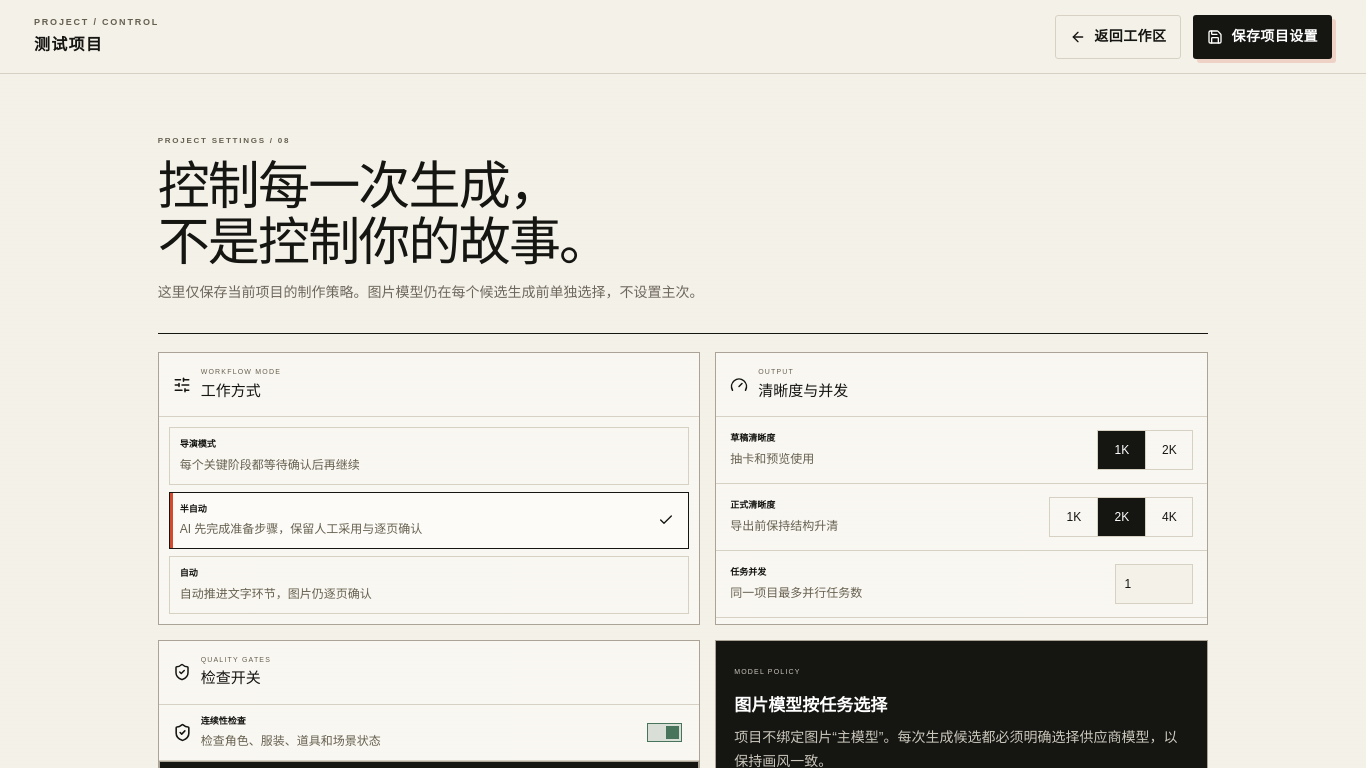
Scenario: ProjectSettingsPage 保存覆盖在途编辑（#650） › 保存在途再改清晰度时，响应落地保留本地修改而不是提交快照回弹
This screenshot has width=1366, height=768.
Expected: the element named "工作方式" is shown, top-left (159, 417), bottom-right (699, 624)
// 修改草稿清晰度并保存：请求在途，控件保持可编辑（这是修复的前提）。
Click the button "2K" in the row of "抽卡和预览使用": [1169, 450] box top-left (1145, 430), bottom-right (1193, 470)
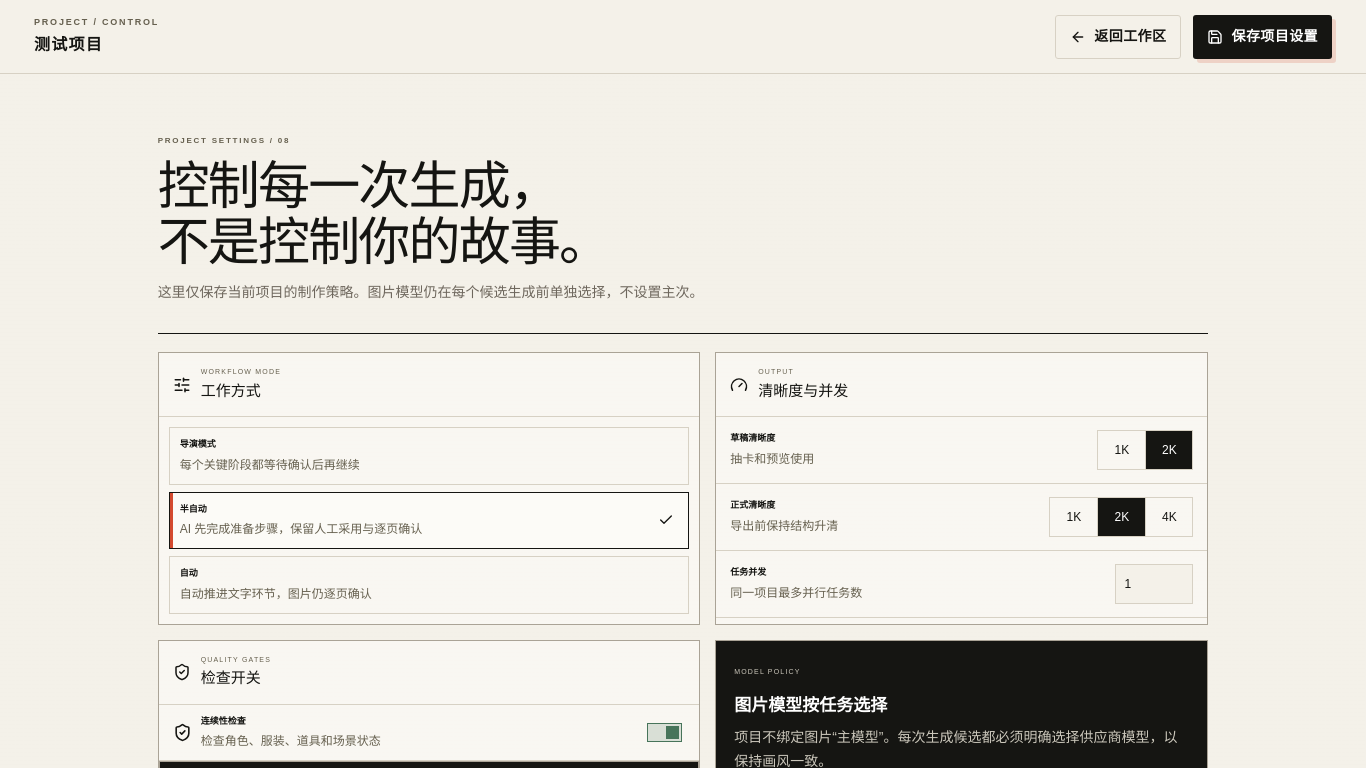
Click the button "保存项目设置": [1263, 36] box top-left (1194, 14), bottom-right (1332, 58)
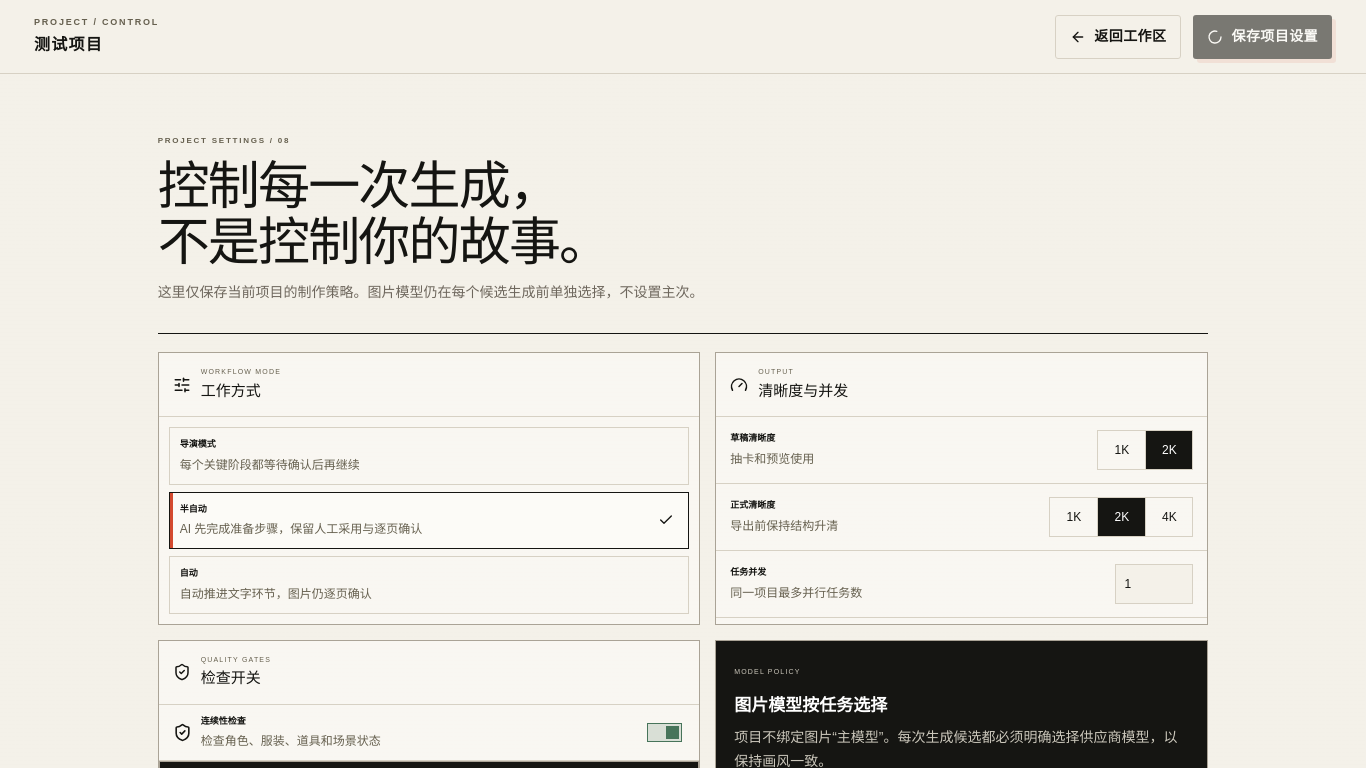
// 保存在途再切换正式清晰度：本地草稿领先于提交快照。
Click the button "4K": [1169, 517] box top-left (1145, 497), bottom-right (1193, 537)
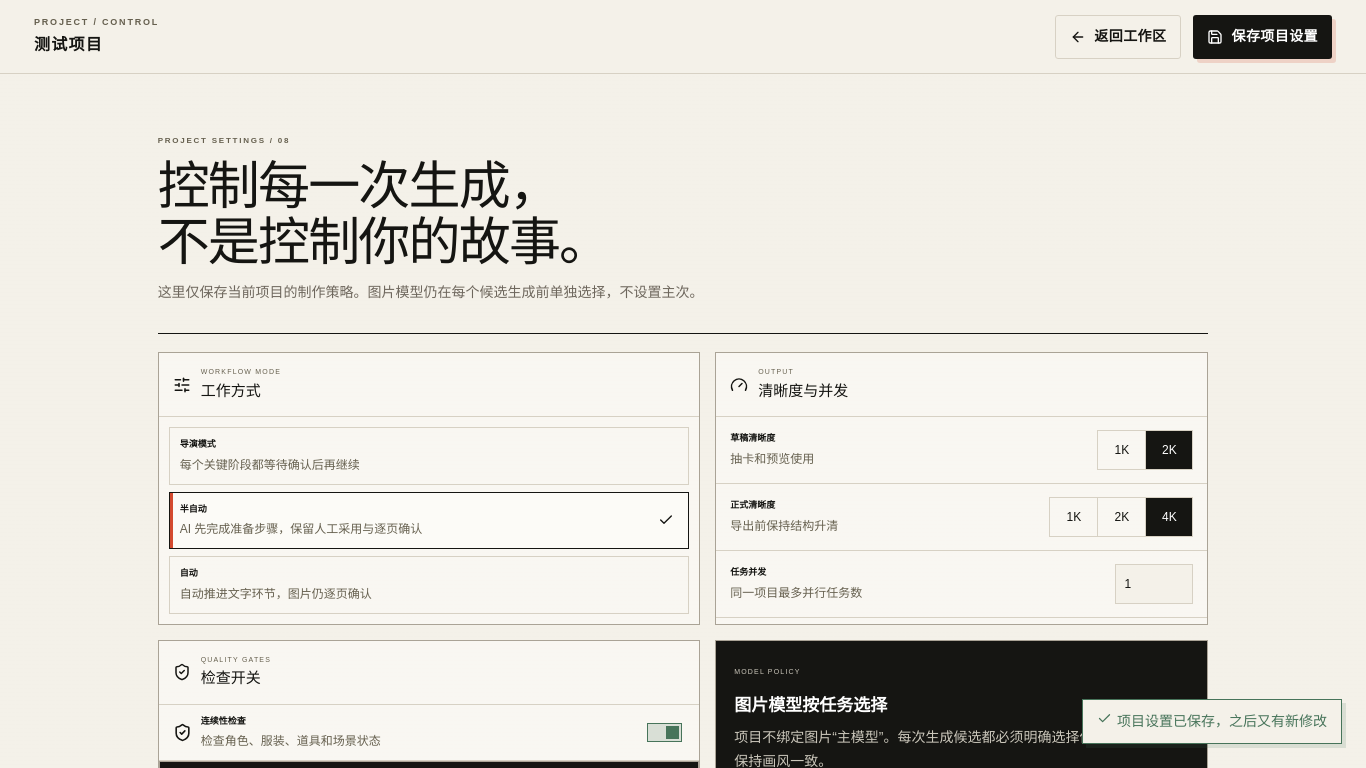
Now the text "项目设置已保存，之后又有新修改" is shown, box top-left (1082, 699), bottom-right (1342, 744)
